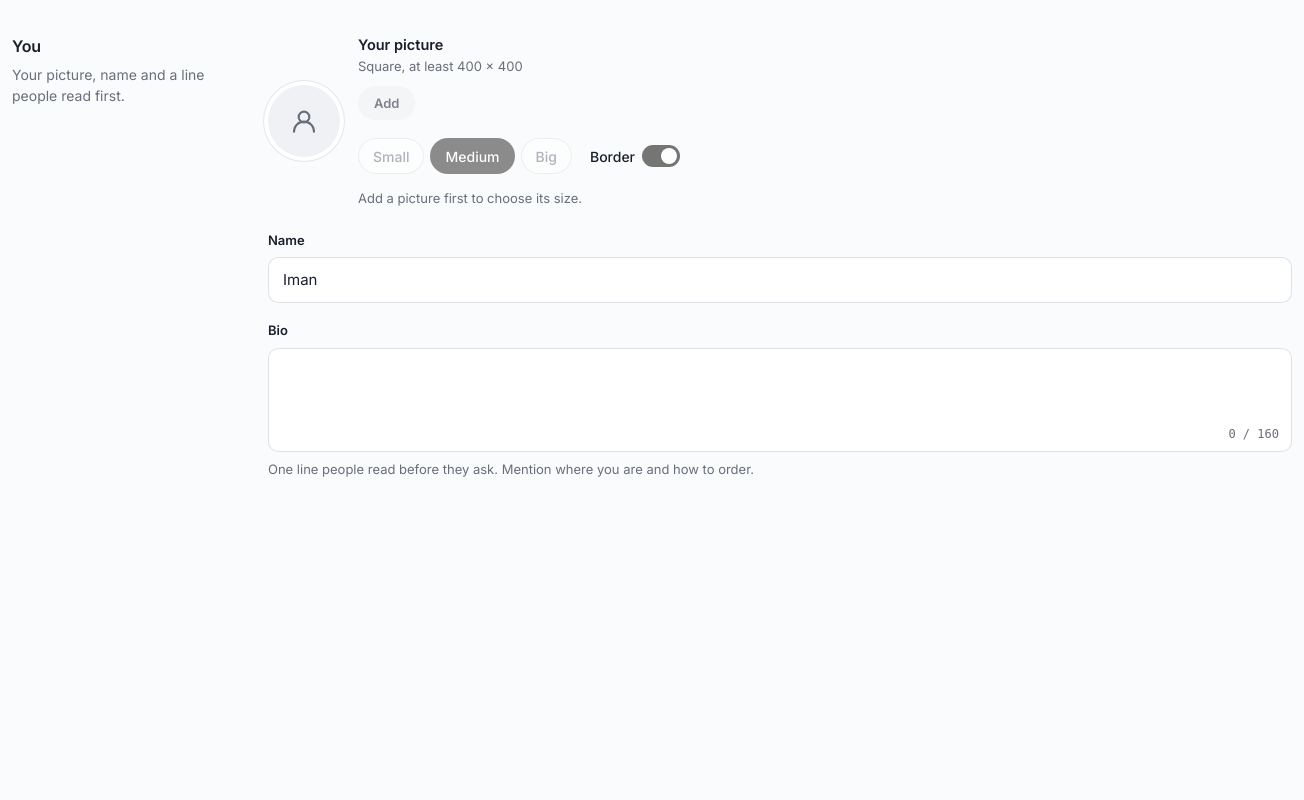
Scenario: ProfileEditor › offers Retry and saves again when the profile fails to save
In the field named "Display name": (780,280) 268,257 -> 1292,303, type "!"
Wait 600 ms
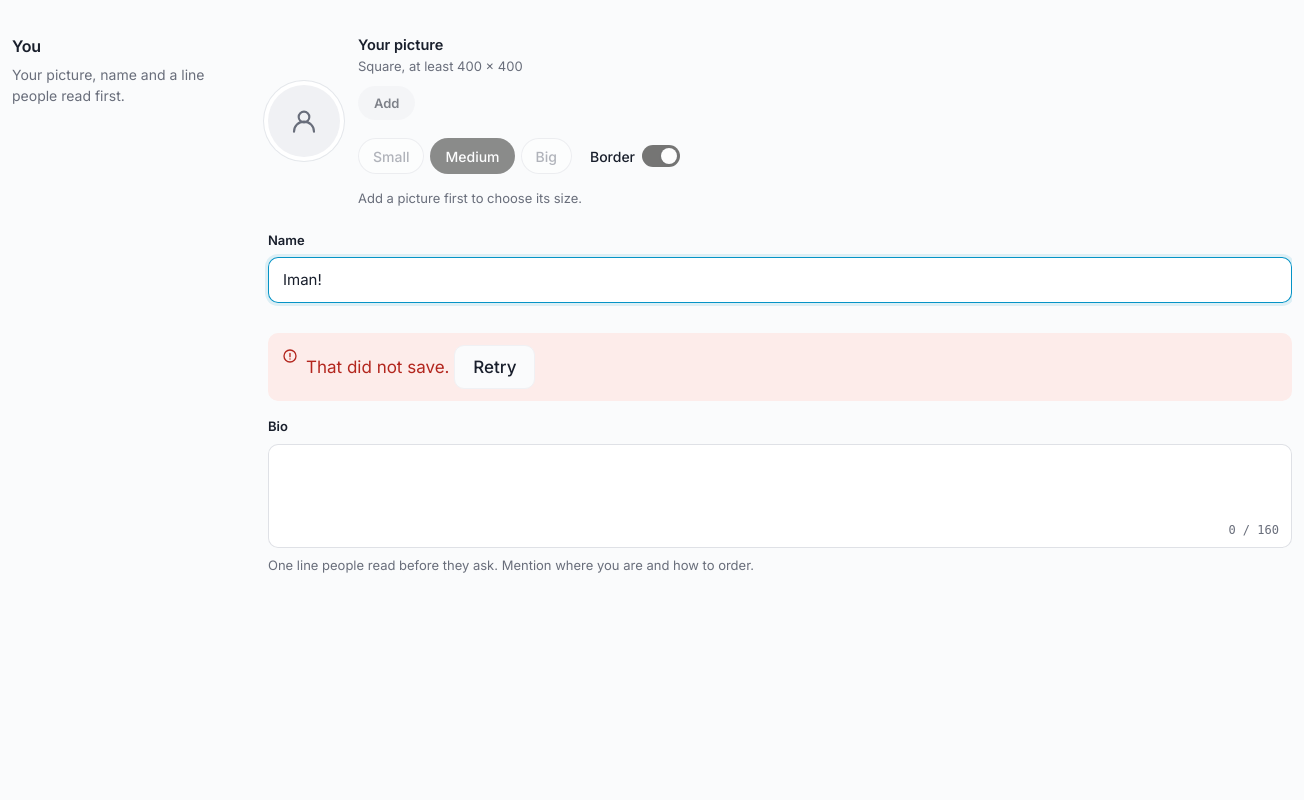
Click the button "Retry": (495,367) 454,345 -> 536,389
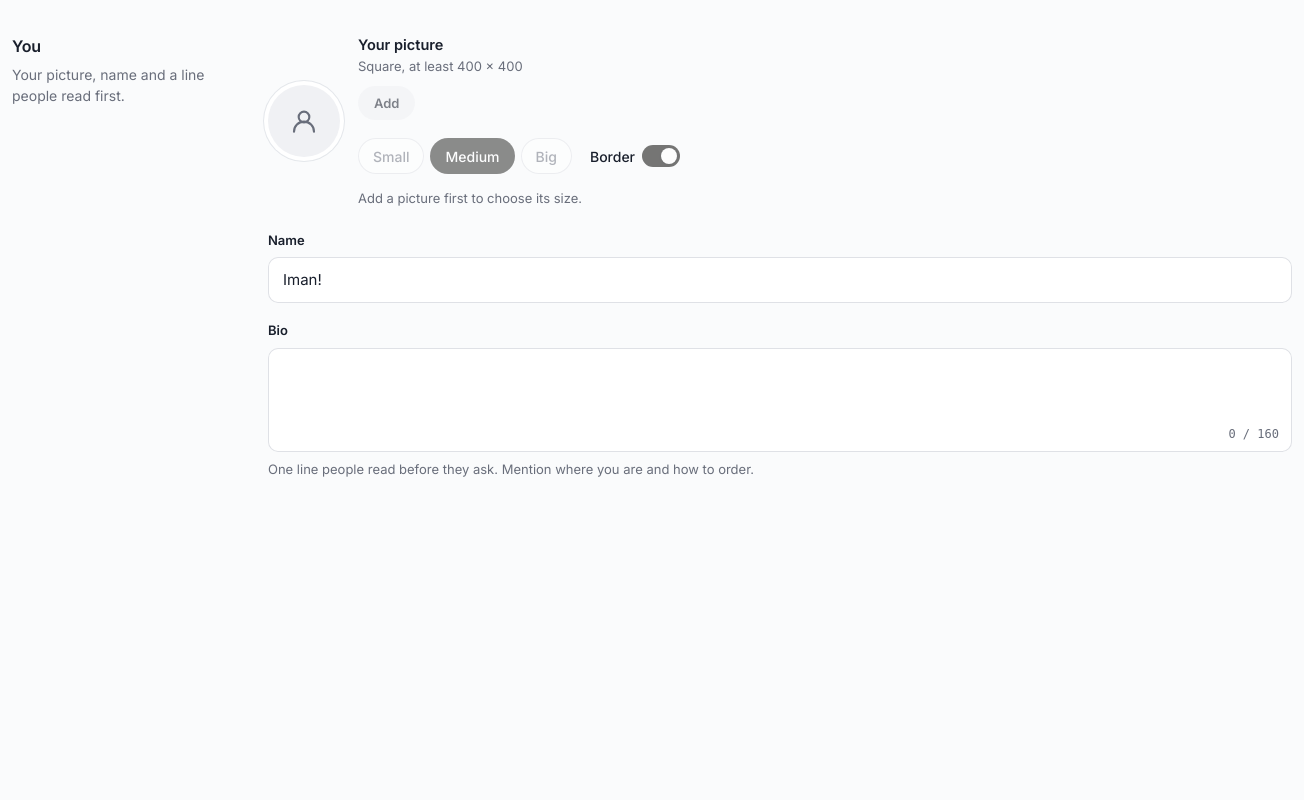
Now the button "Retry" is gone
